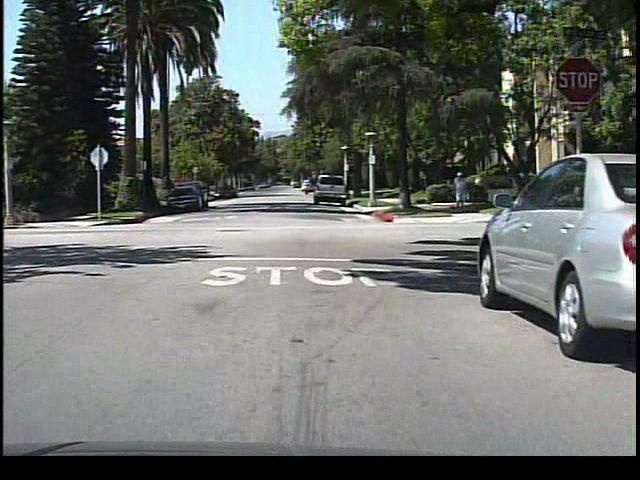person: (450, 168, 468, 214)
